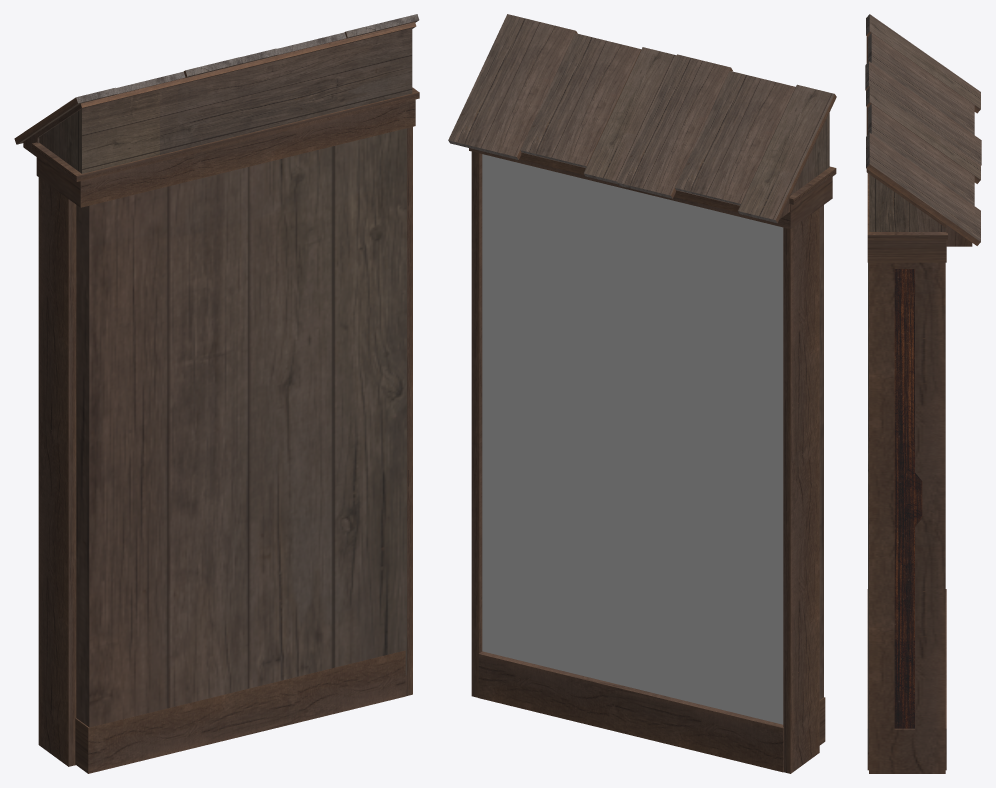
The model's file is amadobox03l.fbx.
The picture shows the model from 3 angles, left to right: view 1: azimuth 30°, elevation 25°; view 2: azimuth 150°, elevation 25°; view 3: azimuth 270°, elevation 25°; orthographic projection. The views are drawn at different scales.
Parts seen in each view (by area): view 1: amadobox03l; view 2: amadobox03l; view 3: amadobox03l.
Boxes of the visible parts, <box> form: amadobox03l: <box>14,14,419,773</box>; amadobox03l: <box>448,14,836,773</box>; amadobox03l: <box>865,14,981,773</box>.
Bounding box in the file's own units: 145 × 275 × 47.4.
